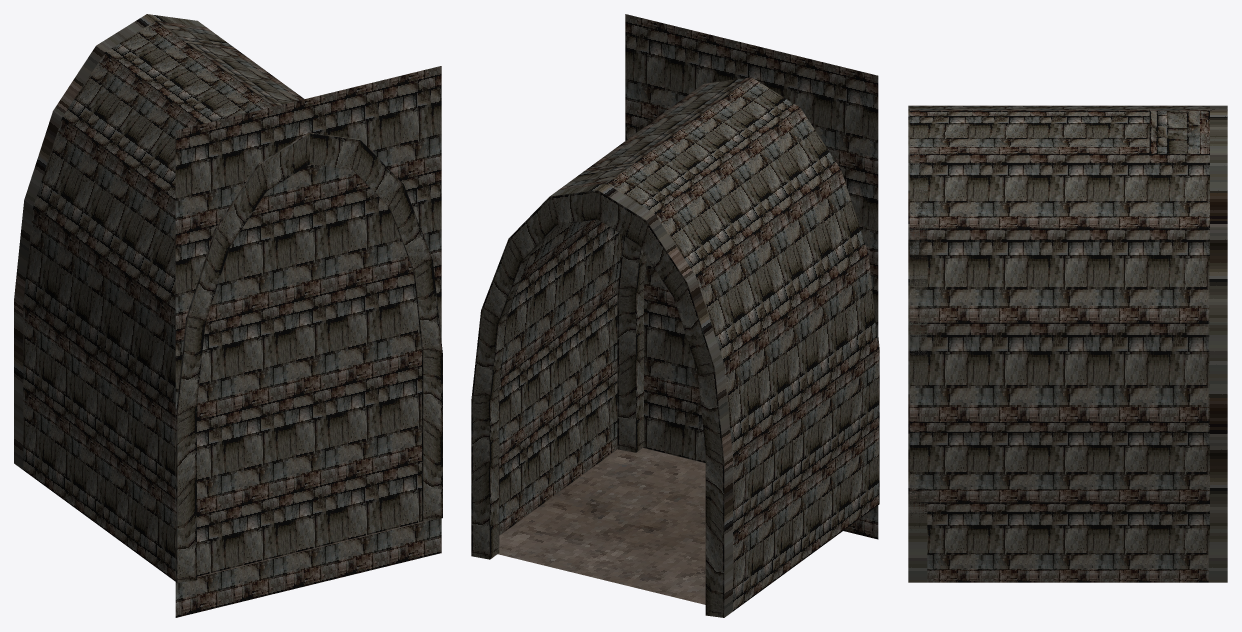
The model's file is dungeon_dead_end_s_model.gltf.
The picture shows the model from 3 angles, left to right: view 1: azimuth 30°, elevation 25°; view 2: azimuth 150°, elevation 25°; view 3: azimuth 270°, elevation 25°; orthographic projection. The views are drawn at different scales.
Parts seen in each view (by area): view 1: Cube.001; view 2: Cube.001; view 3: Cube.001.
Boxes of the visible parts, x1,y1,x2,y2 form: Cube.001: [14, 14, 442, 617]; Cube.001: [471, 14, 879, 617]; Cube.001: [908, 105, 1227, 582].
Bounding box in the file's own units: 2 × 3.51 × 2.13.
3 materials, 3 textured.
